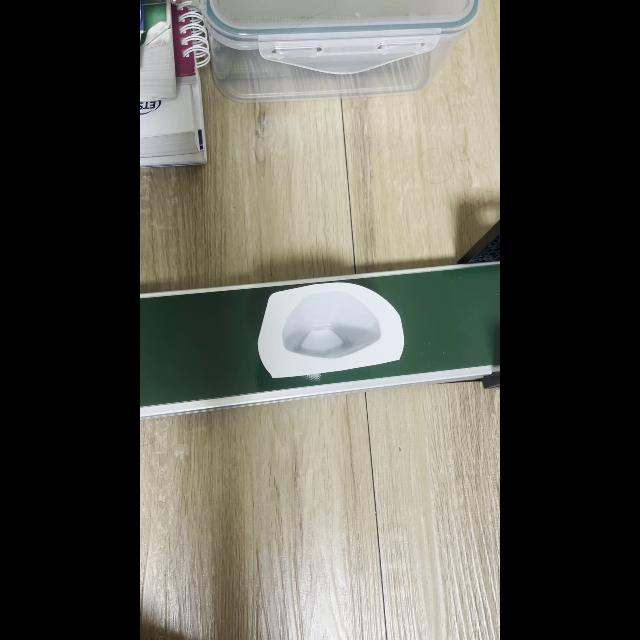clean: (266, 287, 386, 373)
